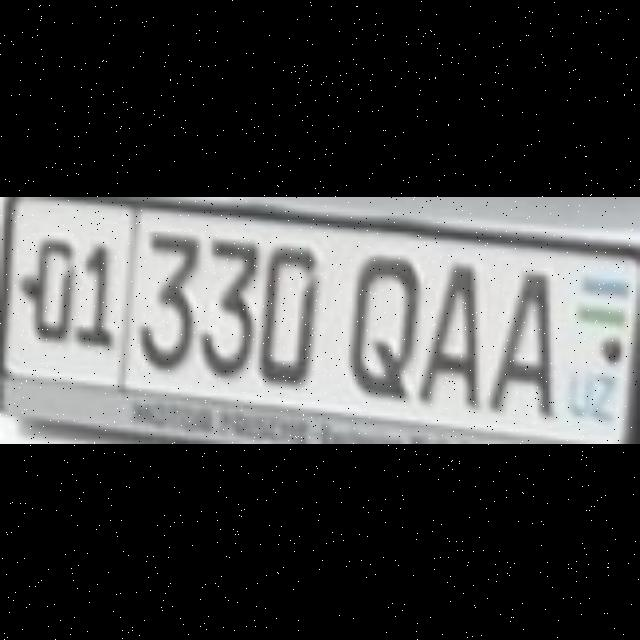0: (256, 244, 314, 380), (31, 235, 70, 333)
1: (70, 239, 110, 341)
3: (138, 228, 196, 364), (200, 235, 256, 372)
A: (486, 266, 546, 412), (416, 258, 472, 399)
Q: (346, 252, 416, 396)
